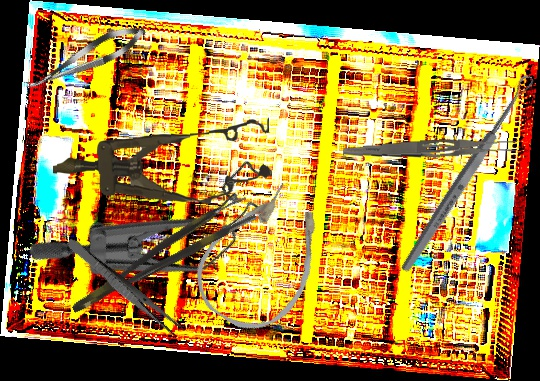Cannula: (180, 168, 347, 347)
Dressing Forceps: (63, 236, 185, 339), (342, 135, 518, 164)
Micro Scissor: (20, 17, 151, 100)
Speculum: (25, 94, 294, 353), (50, 114, 274, 212)
Surgical Spoon: (397, 71, 538, 276)
Tissue Forceps: (62, 193, 258, 316)
